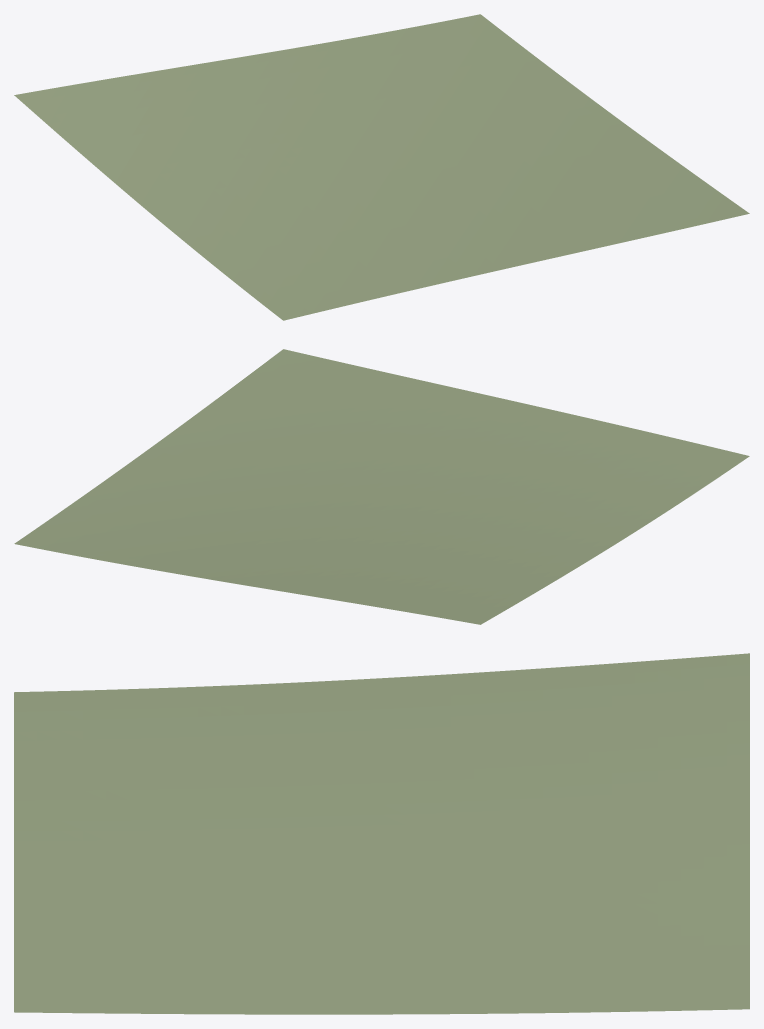
The model's file is expanse-18-20.glb.
The picture shows the model from 3 angles, top to bottom: view 1: azimuth 30°, elevation 25°; view 2: azimuth 150°, elevation 25°; view 3: azimuth 270°, elevation 25°; orthographic projection. The views are drawn at different scales.
Visible parts, largest first — view 1: expanse-18-20; view 2: expanse-18-20; view 3: expanse-18-20.
Part boxes in pixels (box(x1,y1,x2,y2)): expanse-18-20: box(14, 14, 749, 320); expanse-18-20: box(14, 349, 749, 624); expanse-18-20: box(14, 653, 749, 1014).
Size of the model in its own units: 256 by 19.29 by 256.
